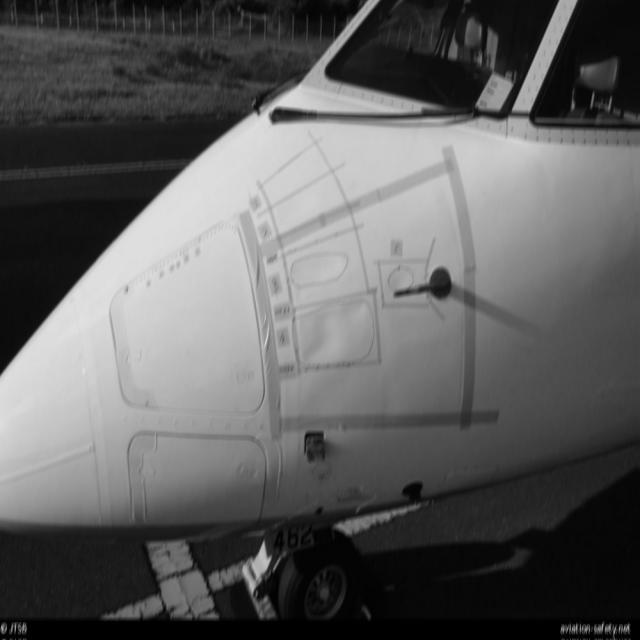dent: (300, 299, 373, 368), (288, 253, 350, 288), (391, 267, 413, 292)
